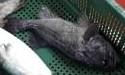fish: (3, 5, 120, 71)
